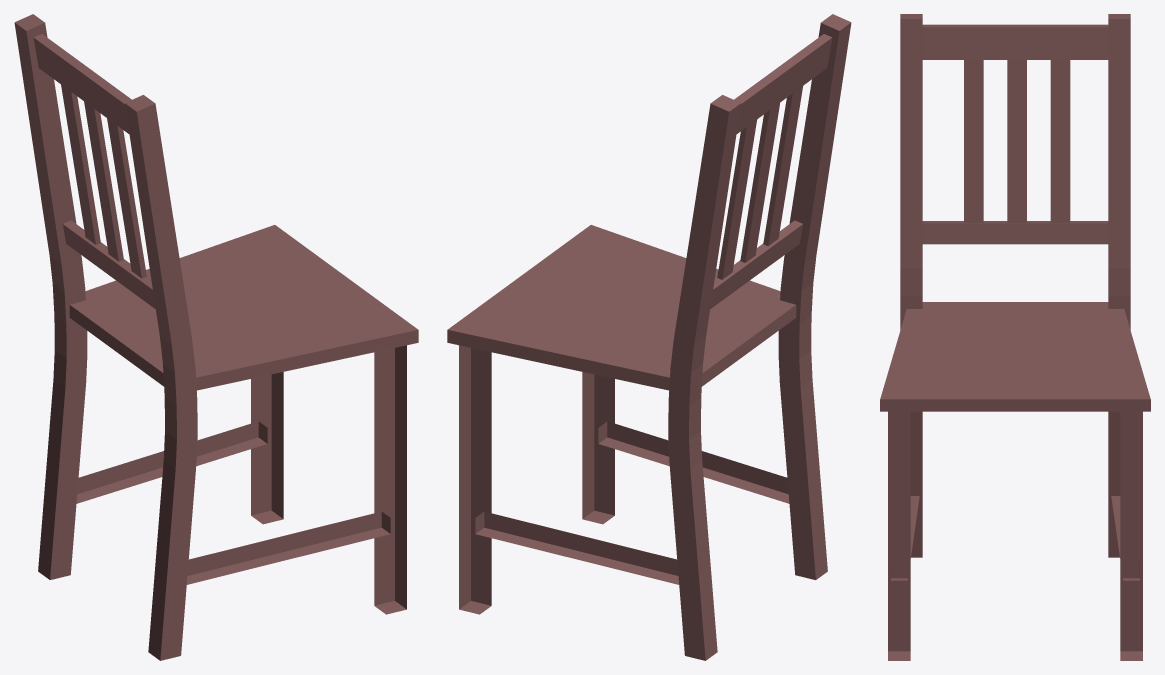
File: chair.glb
3 renders of one model, left to right at view 1: azimuth 30°, elevation 25°; view 2: azimuth 150°, elevation 25°; view 3: azimuth 270°, elevation 25°, orthographic. The views are drawn at different scales.
Parts seen in each view (by area): view 1: Cube.004_Cube.007; view 2: Cube.004_Cube.007; view 3: Cube.004_Cube.007.
Part boxes in pixels (<box>): Cube.004_Cube.007: <box>14,14,418,660</box>; Cube.004_Cube.007: <box>447,14,851,660</box>; Cube.004_Cube.007: <box>880,14,1150,660</box>.
Size of the model in its own units: 0.4485 by 0.8869 by 0.4112.
